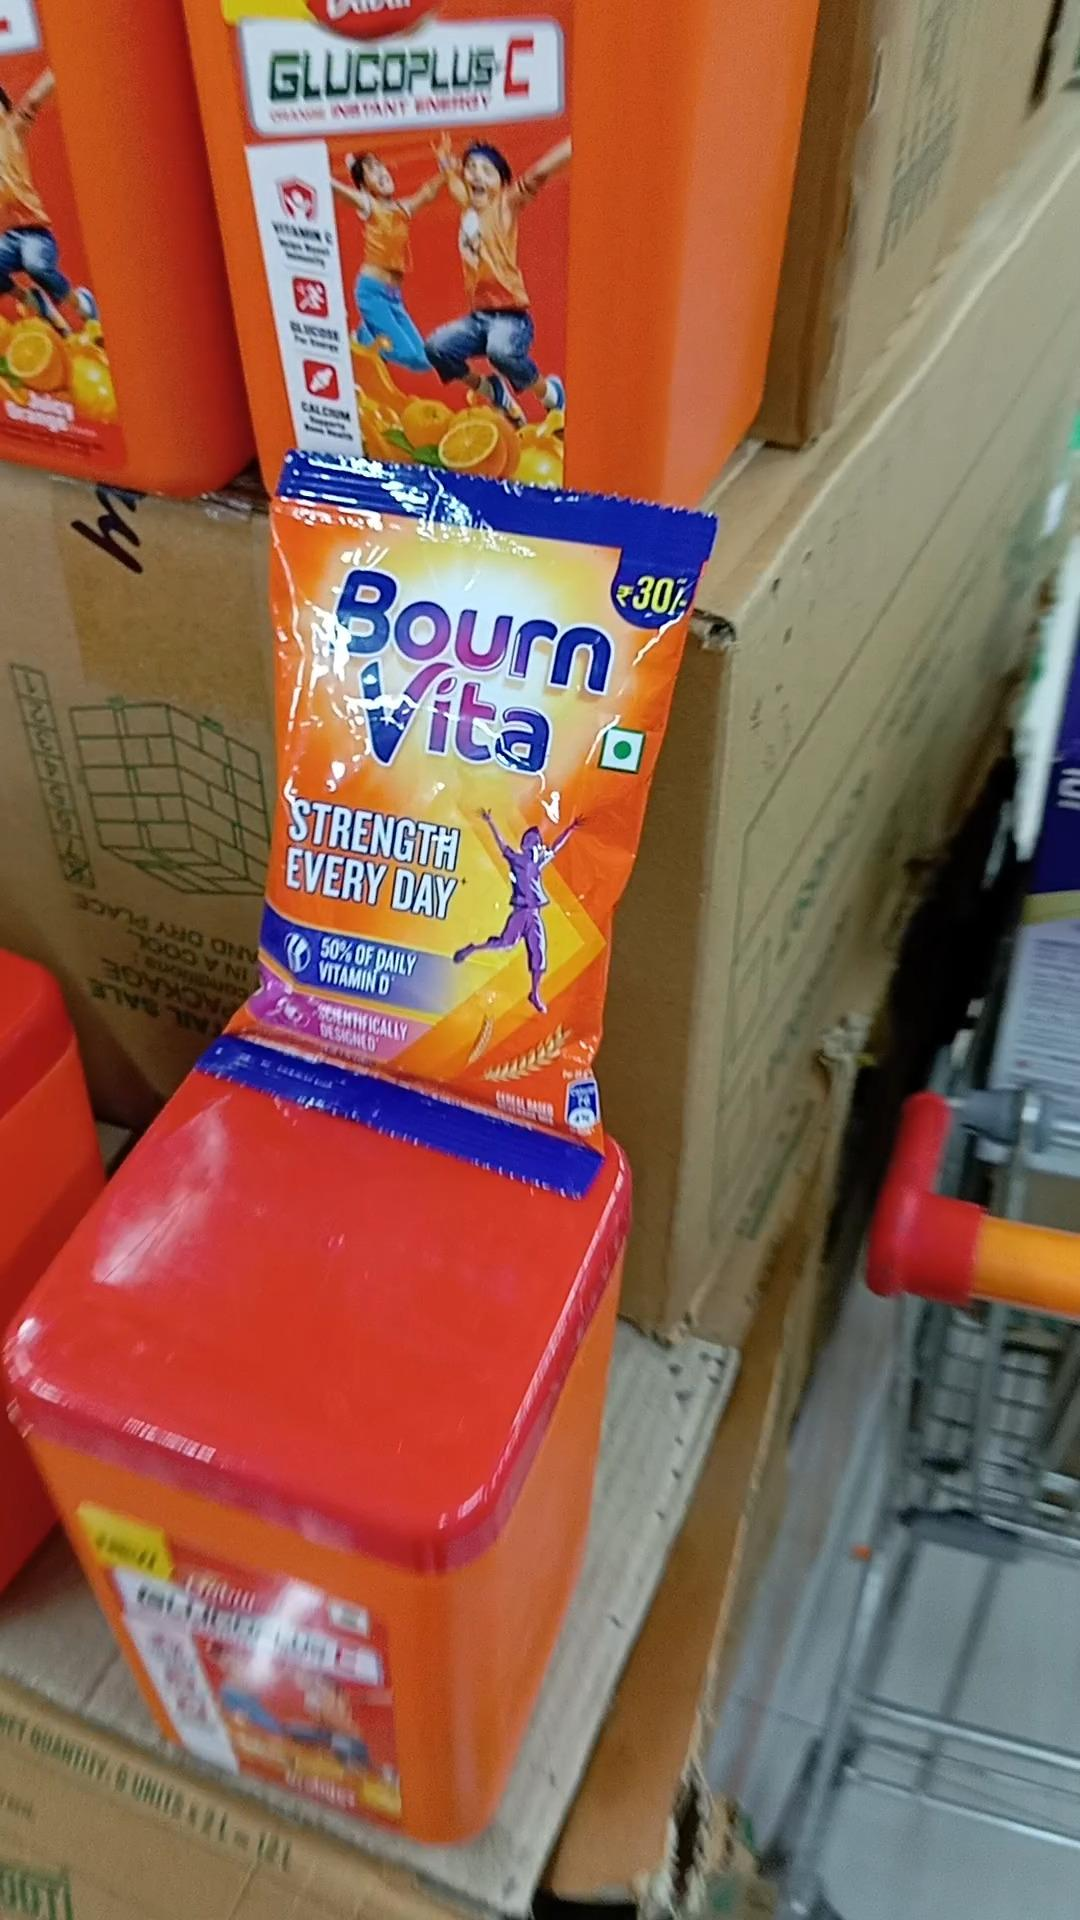BOURN_VITA_75_G_POUCH: (269, 473, 603, 1162)
